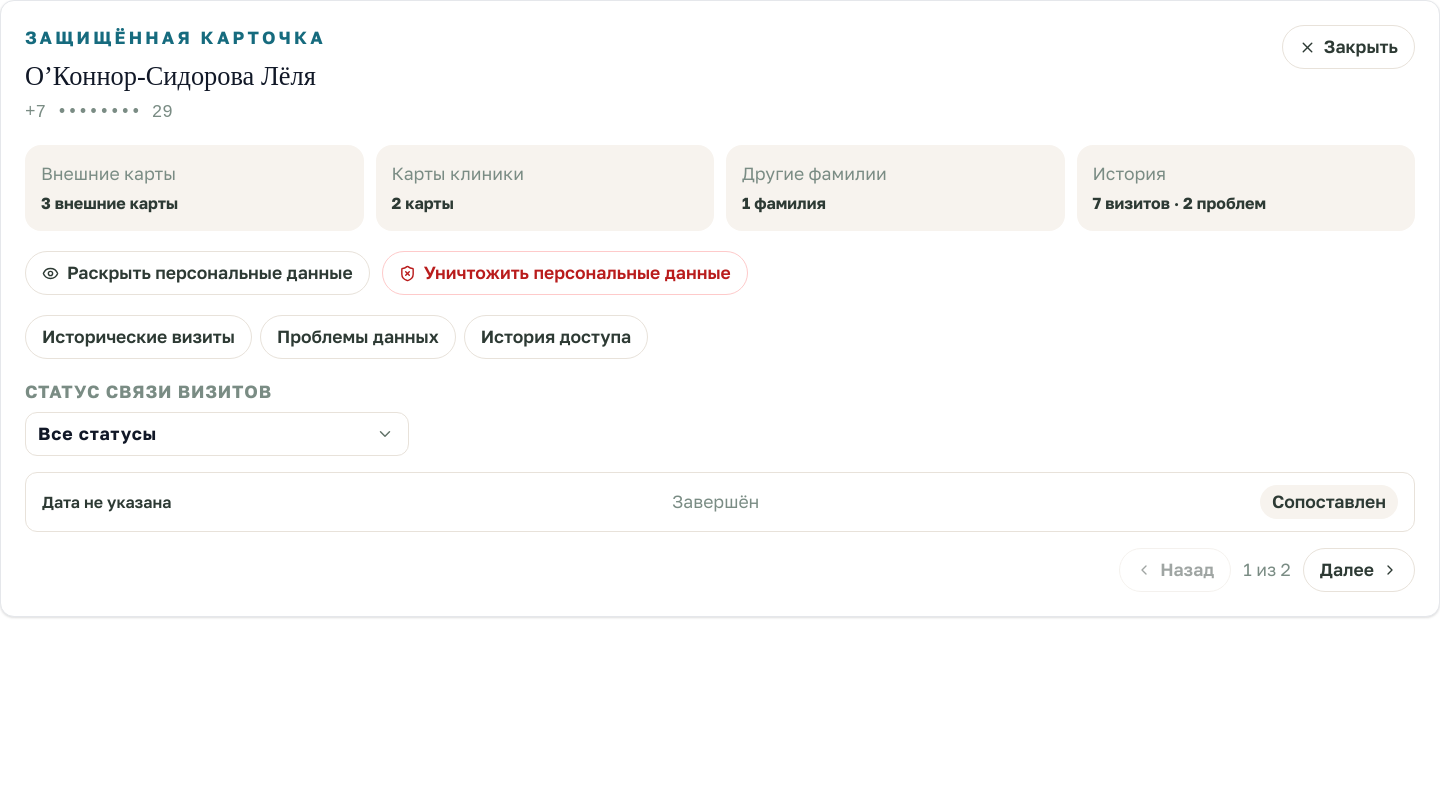
Test case: PatientDetails › shows the revealed phone in the protected card header
The width and height of the screenshot is (1440, 796).
Click the button "Раскрыть персональные данные". click: (197, 273)
box: [25, 251, 370, 295]
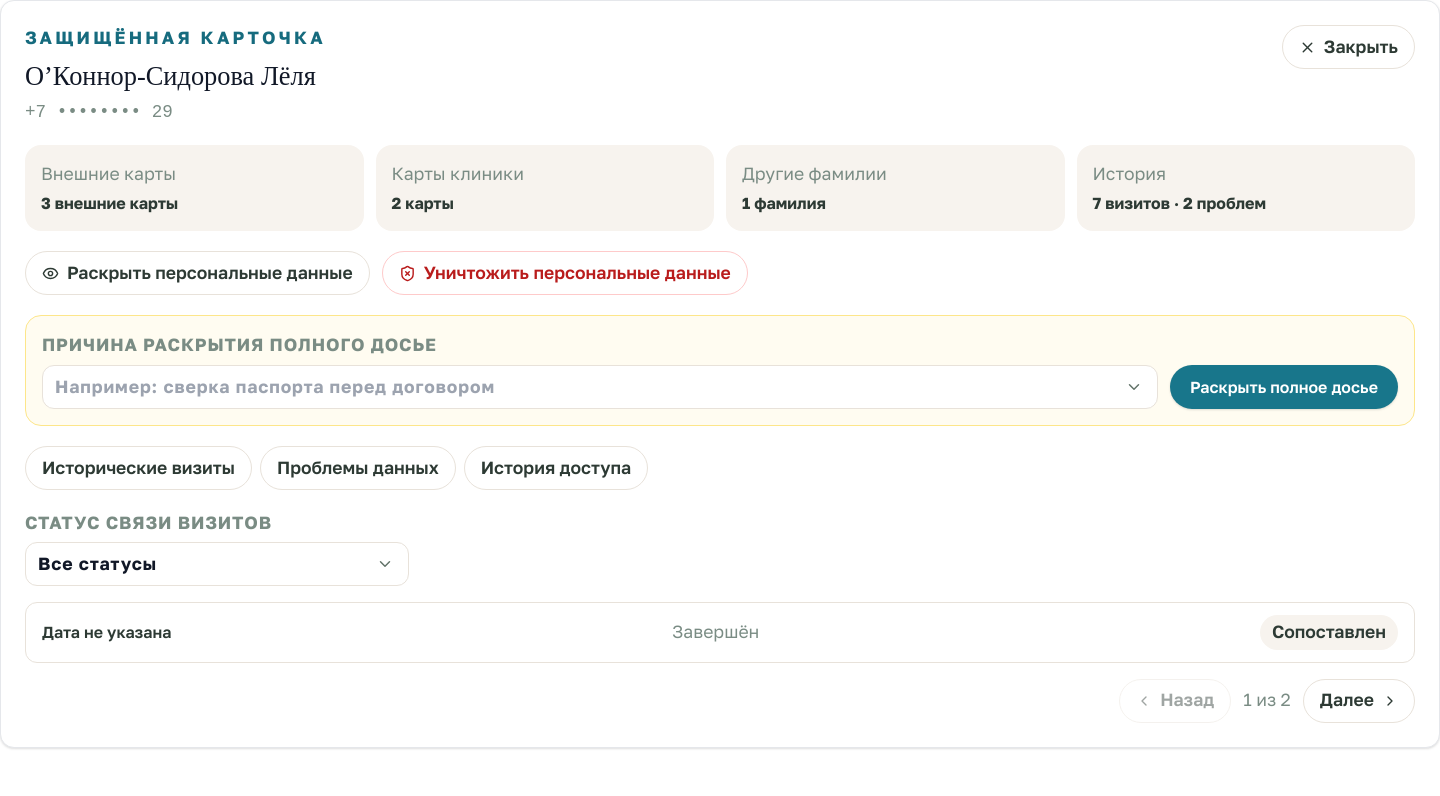
Type "Сверка паспорта" into the field labelled "Причина раскрытия полного досье". click: (600, 387)
box: [42, 365, 1158, 409]
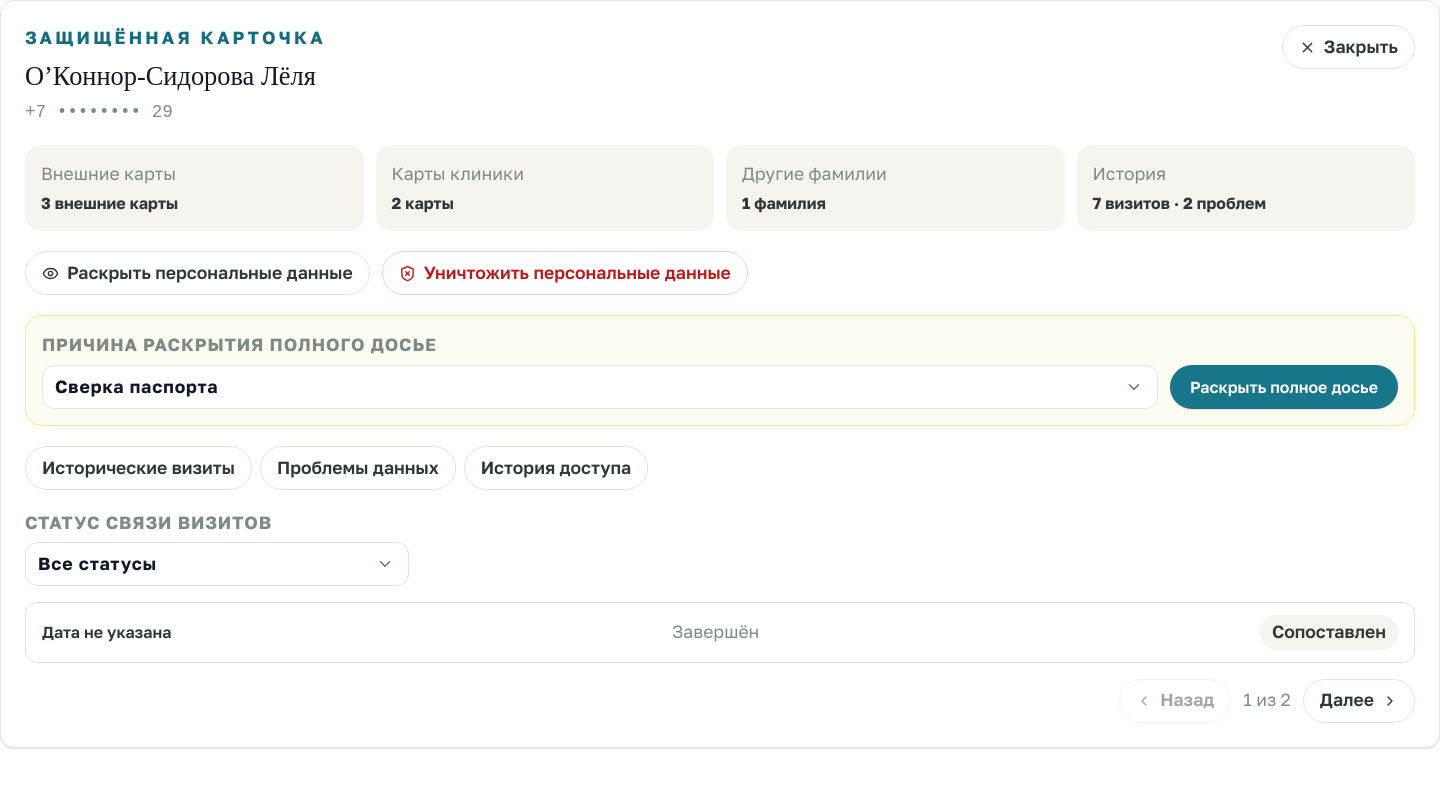
Click the button "Раскрыть полное досье". click: (1284, 387)
box: [1170, 365, 1398, 409]
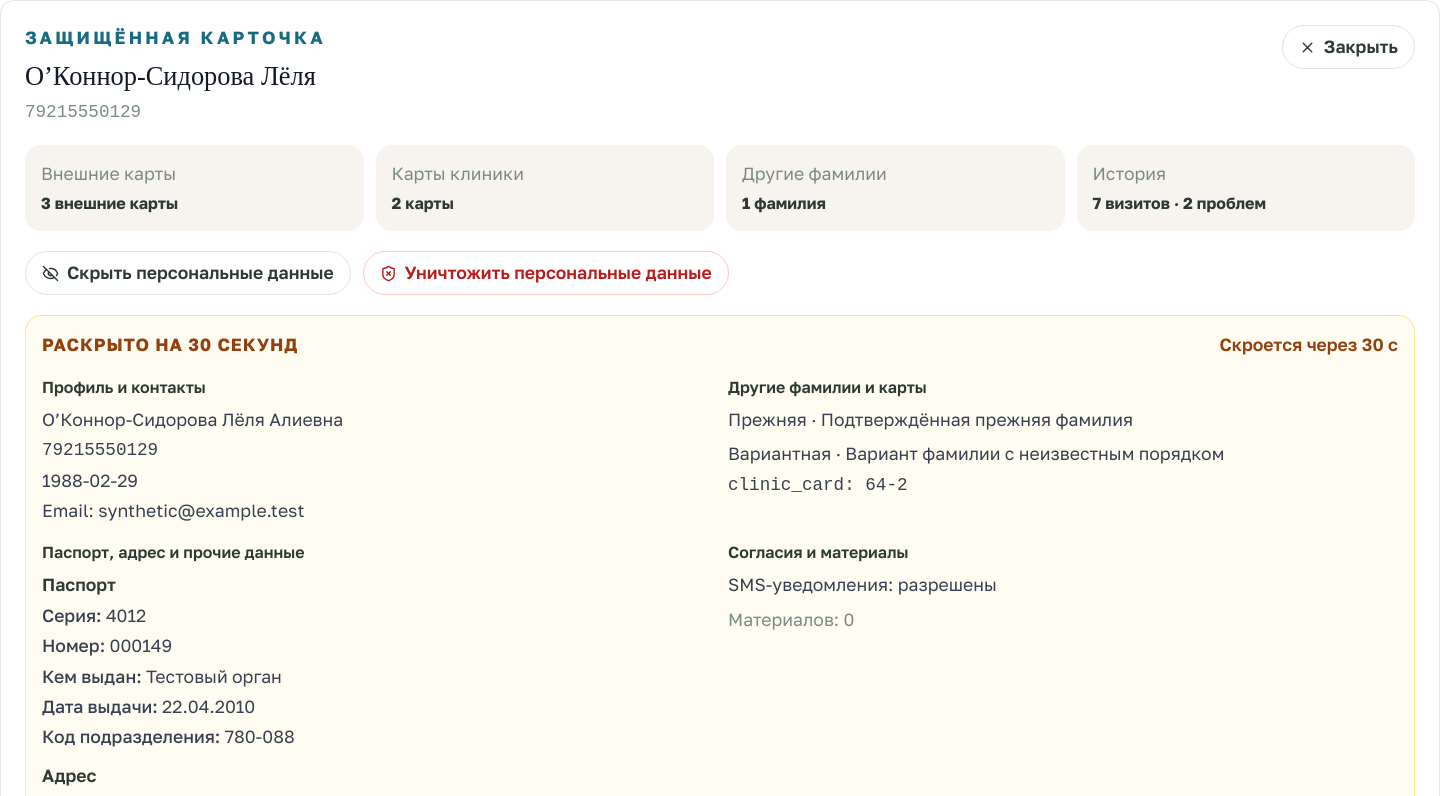
Expected: the text "79215550129" below "Защищённая карточка" is shown, [25, 102, 141, 122]
